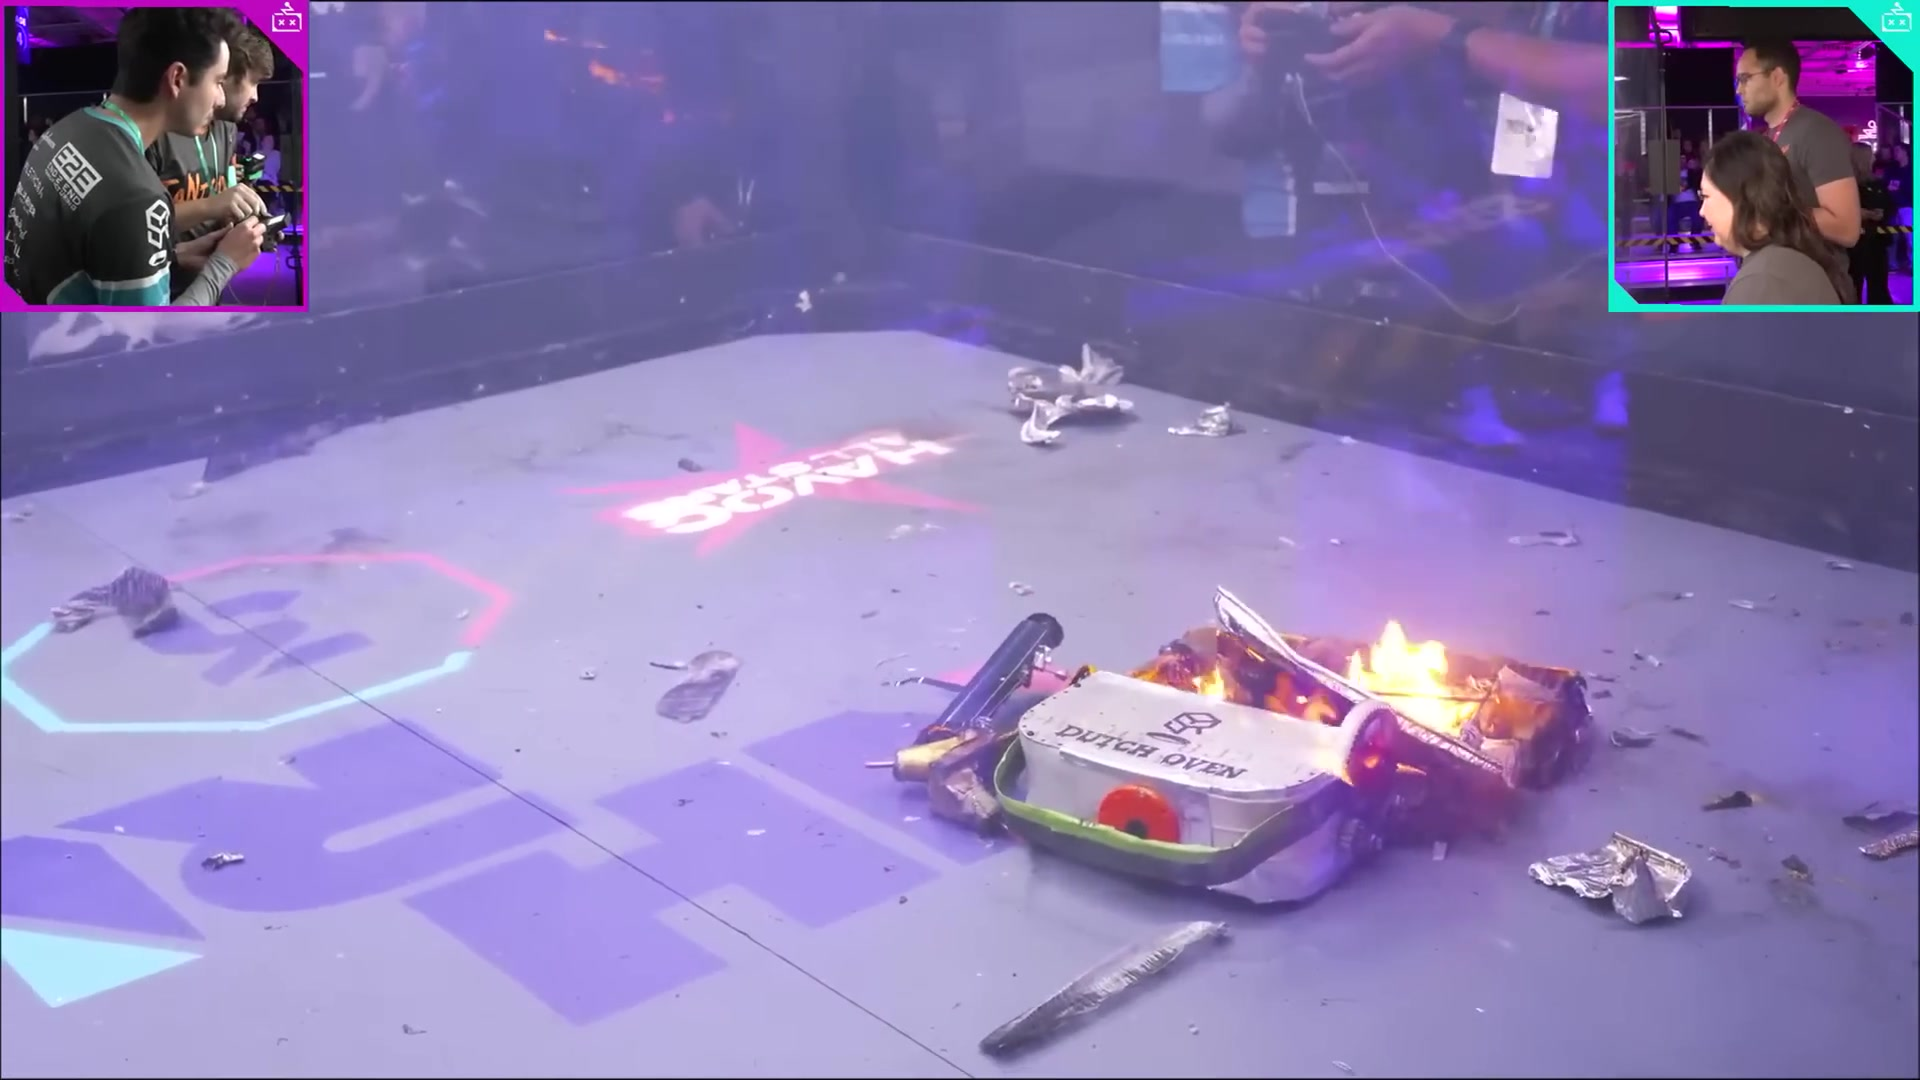combatbot: (1001, 671, 1382, 902), (1145, 624, 1593, 786)
debris: (976, 915, 1222, 1055), (884, 613, 1062, 761), (1526, 835, 1693, 927), (1007, 347, 1130, 443), (51, 567, 175, 629)
